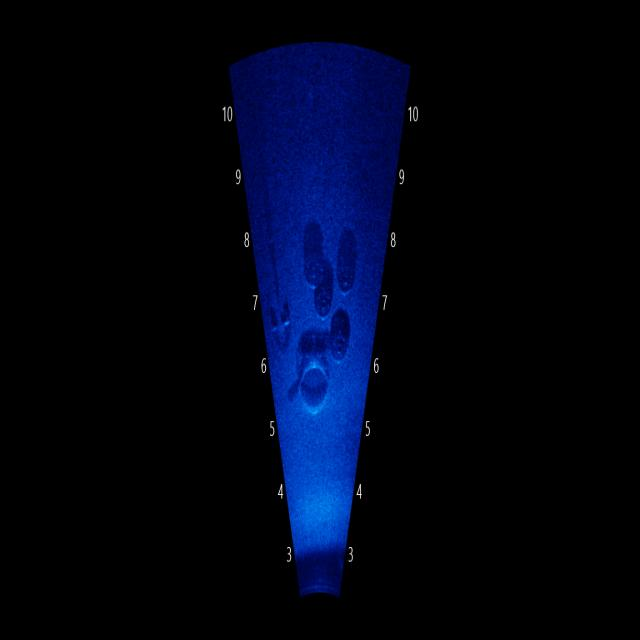circle: (291, 357, 336, 418), (334, 244, 372, 311), (298, 217, 326, 294), (323, 312, 358, 367), (308, 272, 340, 328)
